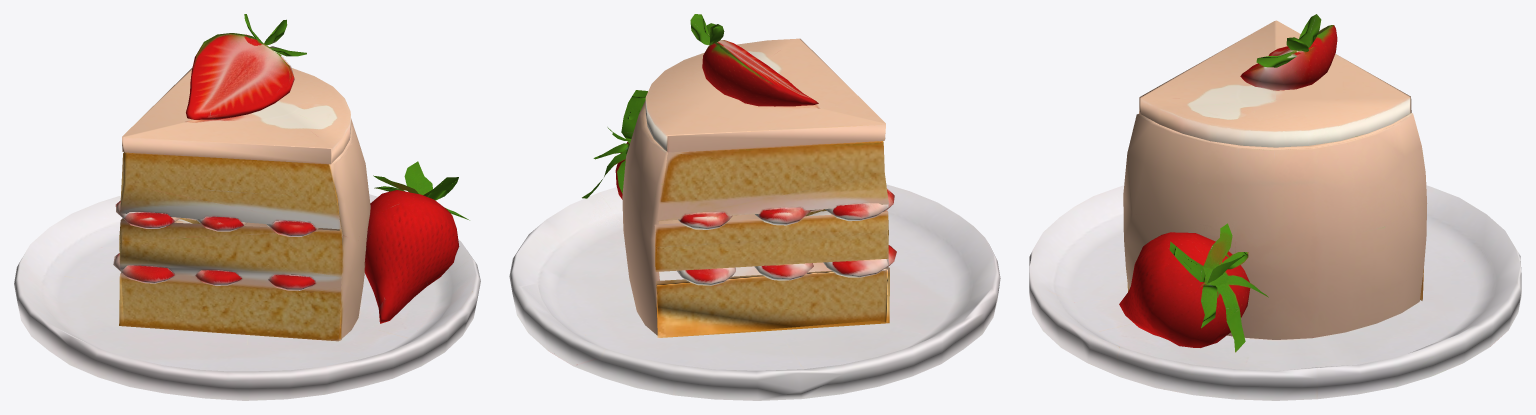
The model's file is food_cake.glb.
The picture shows the model from 3 angles, left to right: view 1: azimuth 30°, elevation 25°; view 2: azimuth 150°, elevation 25°; view 3: azimuth 270°, elevation 25°; orthographic projection. The views are drawn at different scales.
Bounding box in the file's own units: 1 × 0.654 × 1.
Materials: 1 (1 with a texture image).
